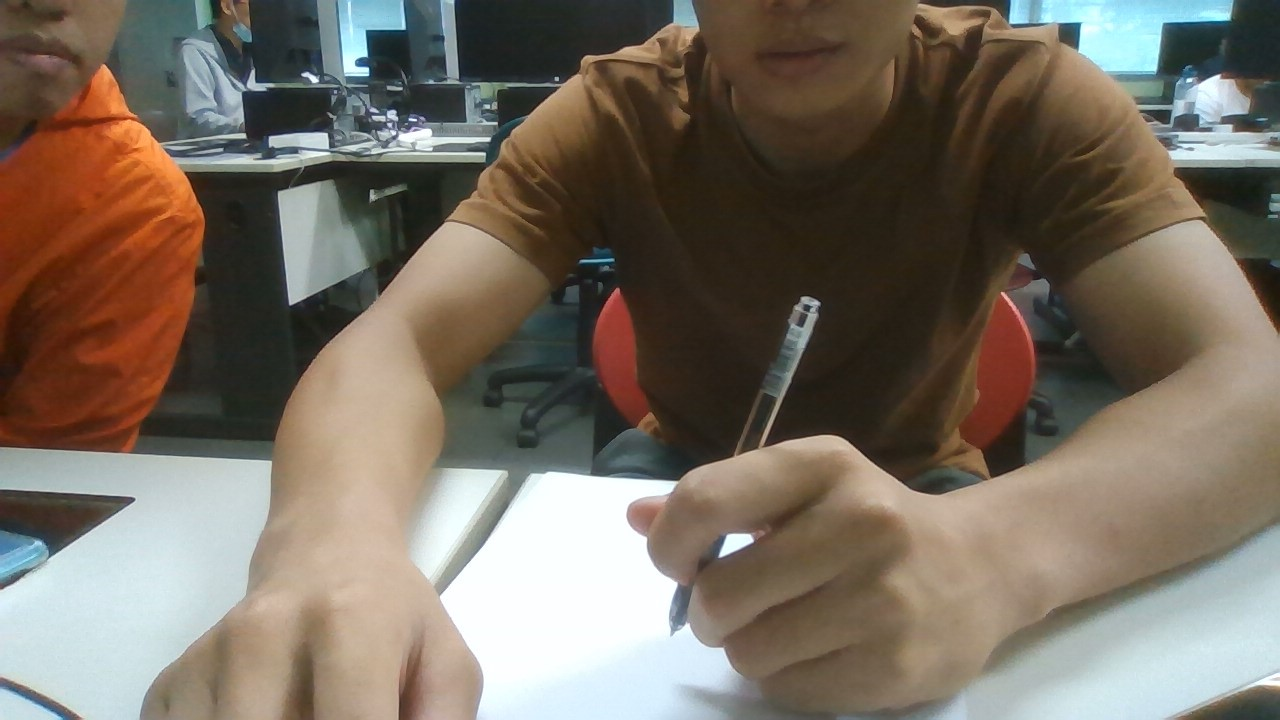pen: (670, 295, 819, 635)
